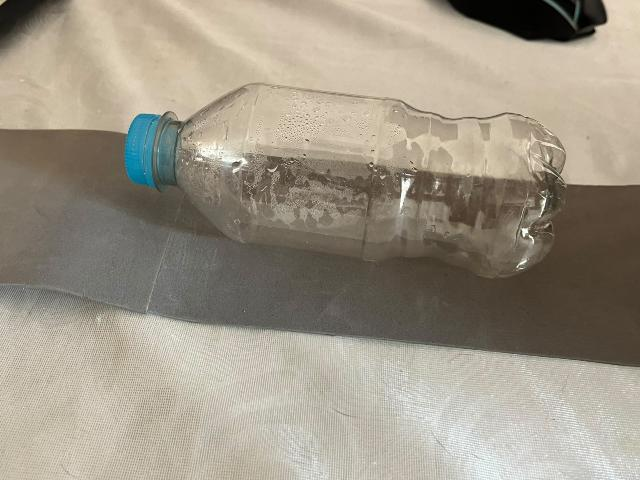PET: (96, 45, 597, 313)
